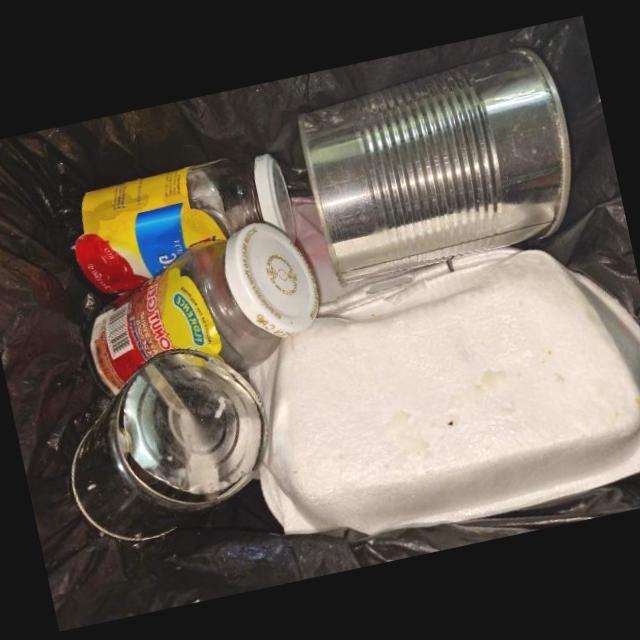chai_thuy_tinh: (89, 222, 320, 397), (74, 153, 296, 294)
nhom: (298, 48, 570, 285), (71, 349, 267, 541)
xop: (246, 248, 640, 536)
